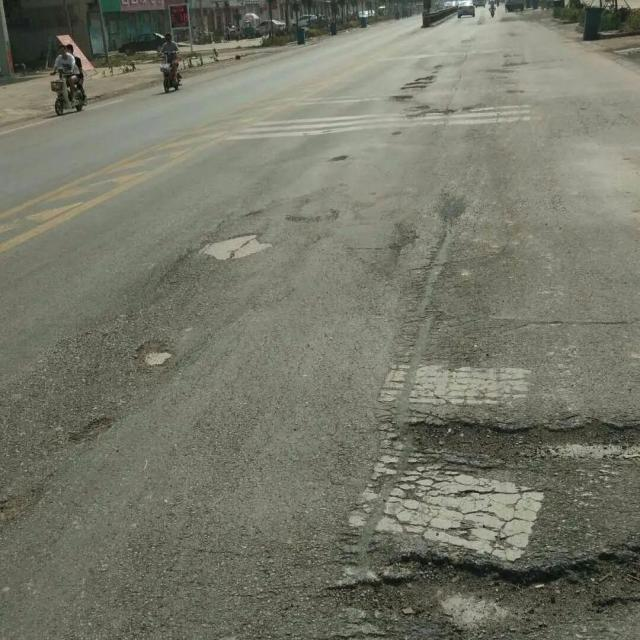Pothole: (355, 536, 639, 624), (404, 410, 640, 470), (194, 232, 276, 258), (65, 412, 117, 443), (133, 339, 179, 369), (406, 109, 456, 122), (404, 74, 437, 92), (502, 81, 532, 98), (488, 59, 540, 68), (326, 150, 357, 163), (390, 93, 412, 104)
